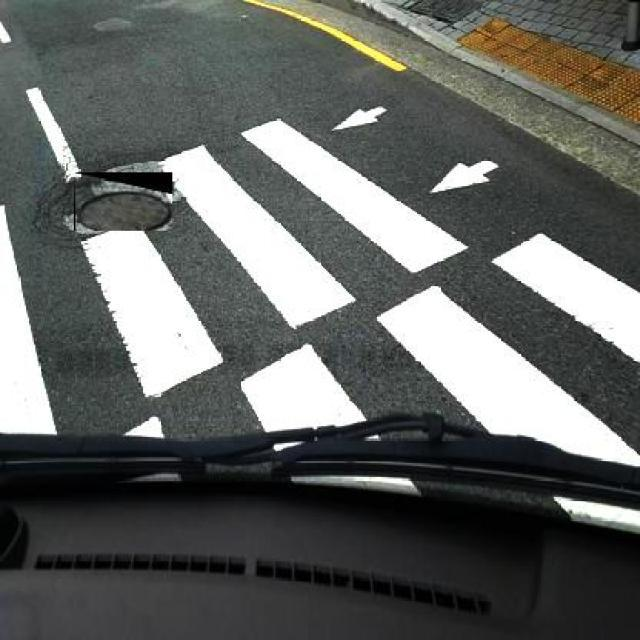Manhole: (73, 172, 173, 231), (408, 0, 481, 22)
Pothole: (86, 15, 140, 32)
